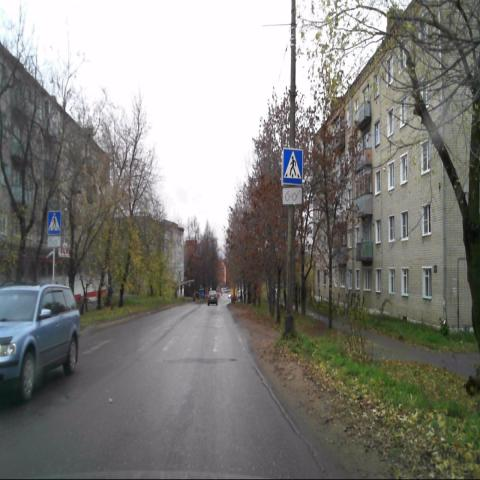8_15: (282, 187, 302, 204)
